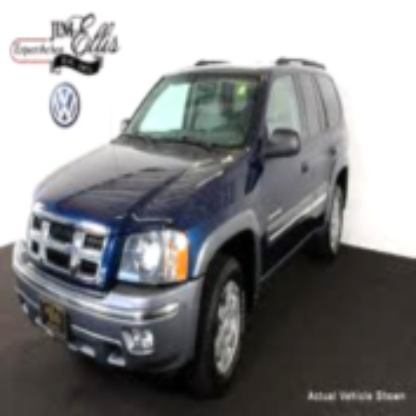Vehicle: (15, 52, 356, 382)
